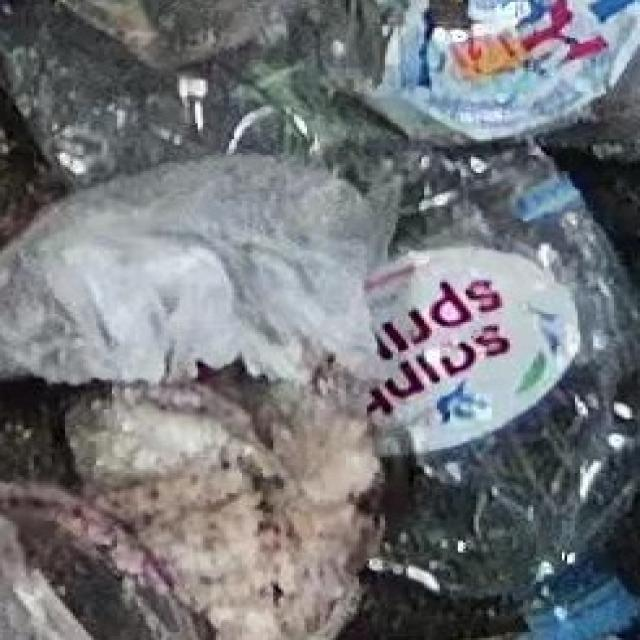plasticbottle: (0, 1, 640, 636)
